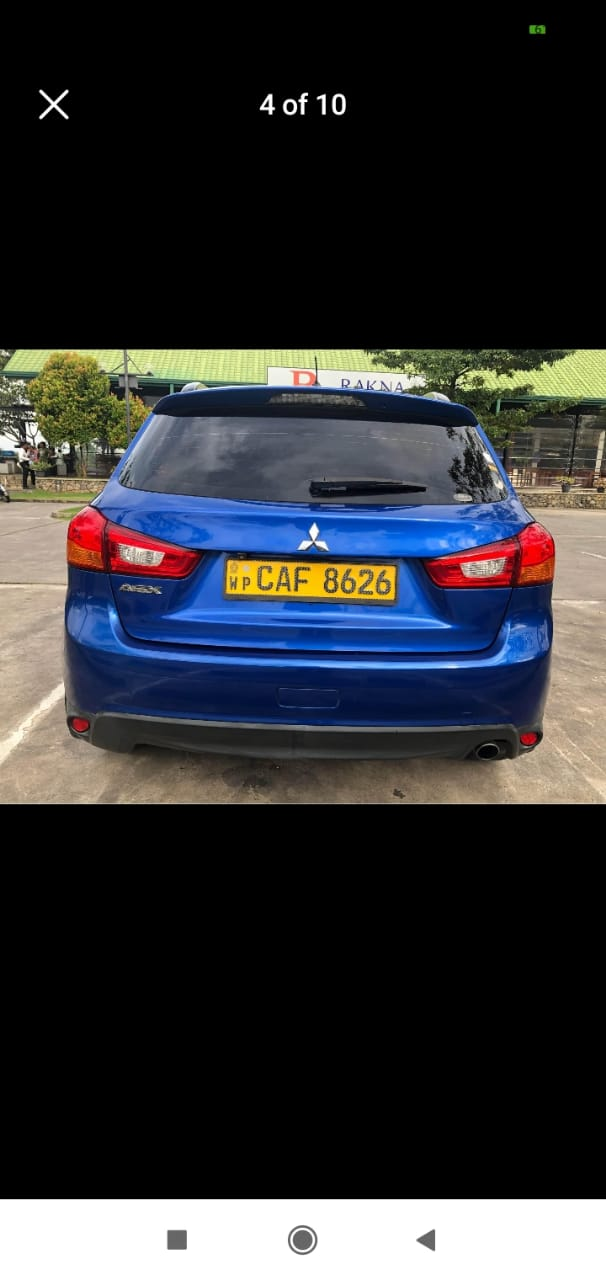number_plate: (222, 556, 399, 603)
